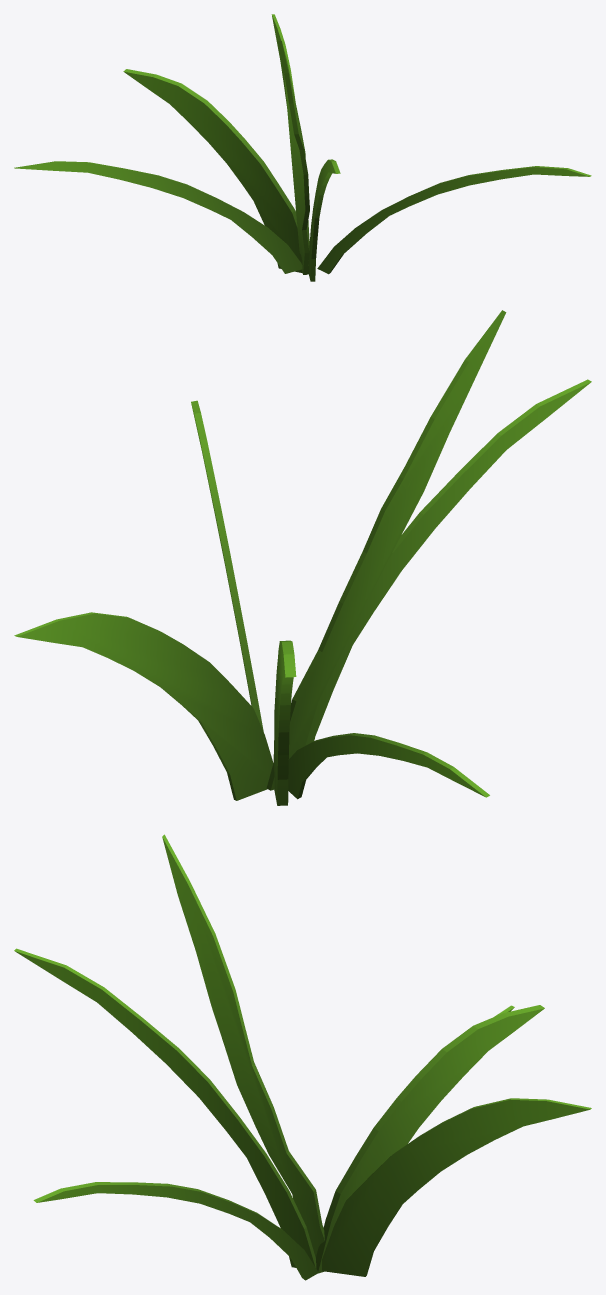
The model's file is Grass.fbx.
3 views of the same model, one above another, from view 1: azimuth 30°, elevation 25°; view 2: azimuth 150°, elevation 25°; view 3: azimuth 270°, elevation 25° (orthographic). The views are drawn at different scales.
Parts seen in each view (by area): view 1: Grass; view 2: Grass; view 3: Grass.
Part boxes in pixels (x1,y1,x2,y2): Grass: (14, 14, 591, 281); Grass: (14, 310, 591, 805); Grass: (14, 834, 591, 1280).
Size of the model in its own units: 0.9904 by 0.7258 by 1.
